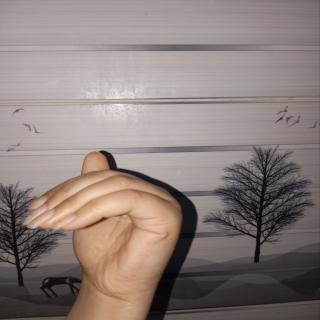KHAA: (12, 146, 206, 304)
